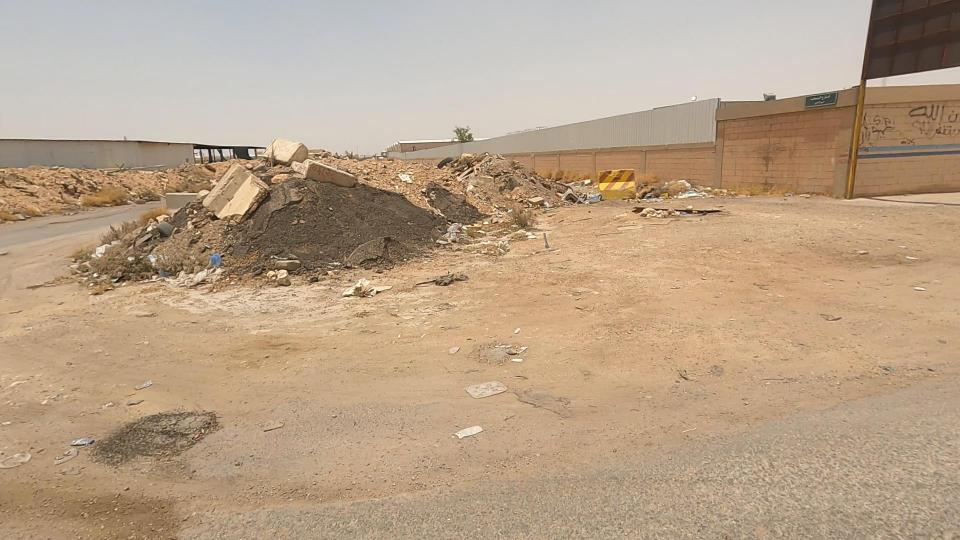GARBAGE: (396, 321, 567, 437), (122, 214, 282, 325), (46, 200, 163, 332), (310, 237, 429, 341), (76, 349, 194, 435), (35, 399, 139, 492), (95, 191, 203, 263), (410, 199, 508, 276), (603, 163, 695, 245), (402, 390, 507, 459), (637, 156, 742, 223), (432, 128, 508, 215), (547, 159, 619, 231), (371, 144, 433, 204)
